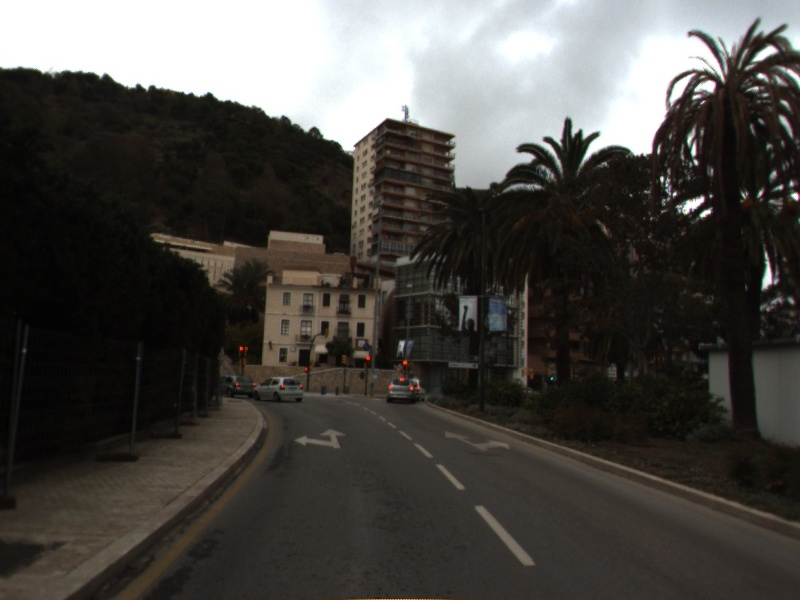STRAIGHT_LEFT: (292, 427, 348, 450)
STRAIGHT_RIGHT: (443, 429, 511, 453)
